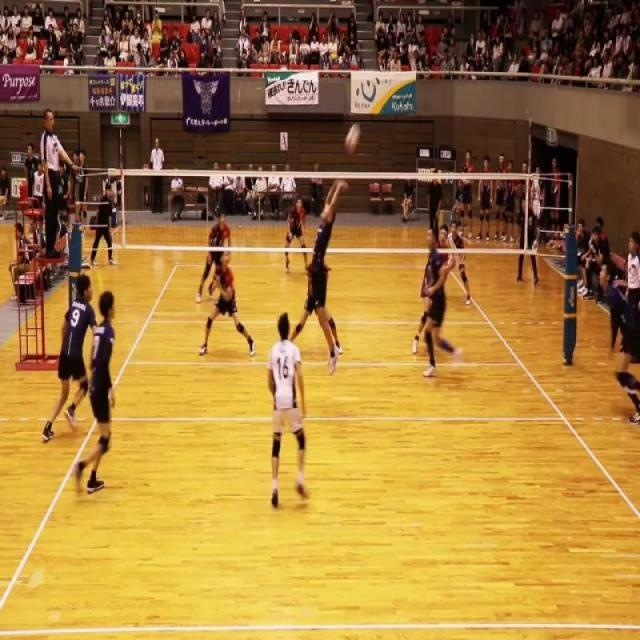volleyball: (344, 121, 361, 157)
